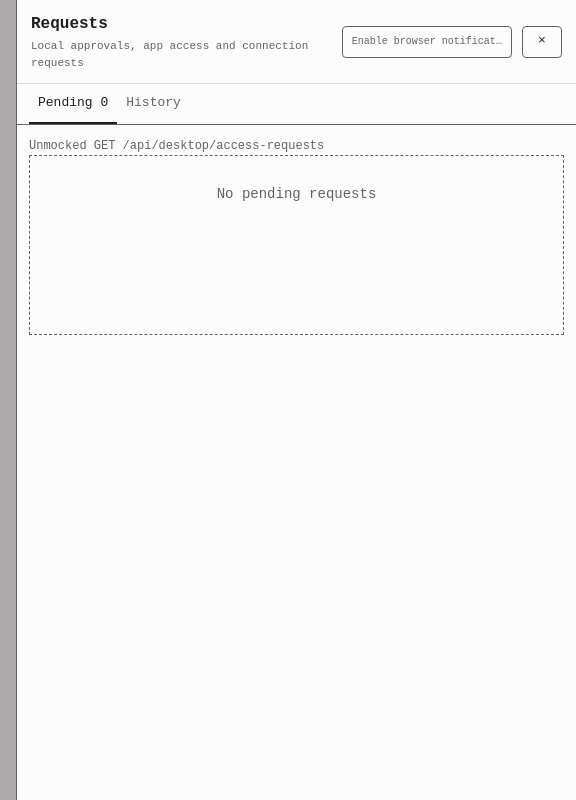
browser notification control requests permission and reports the granted state
This screenshot has width=576, height=800.
Click the button "Enable browser notifications". click: (427, 42)
box: x1=342 y1=26 x2=512 y2=58
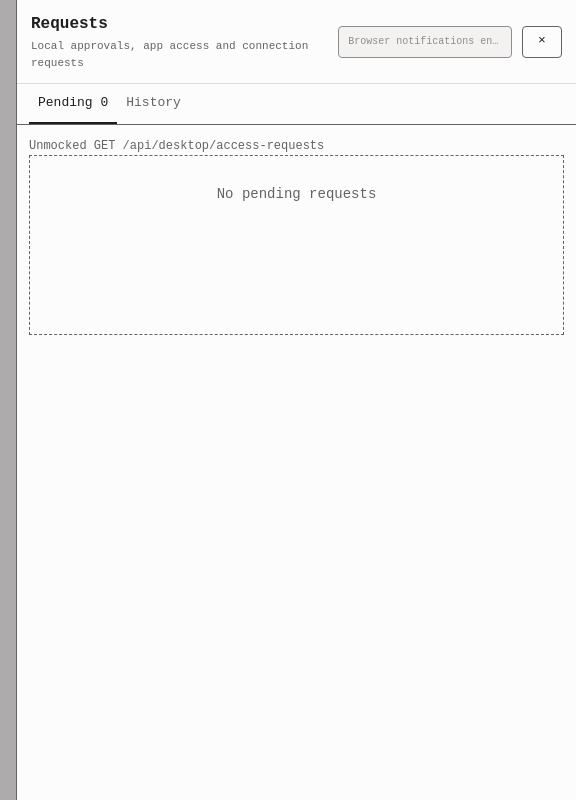
Check: the button "Browser notifications enabled" is disabled, box x1=338 y1=26 x2=512 y2=58
